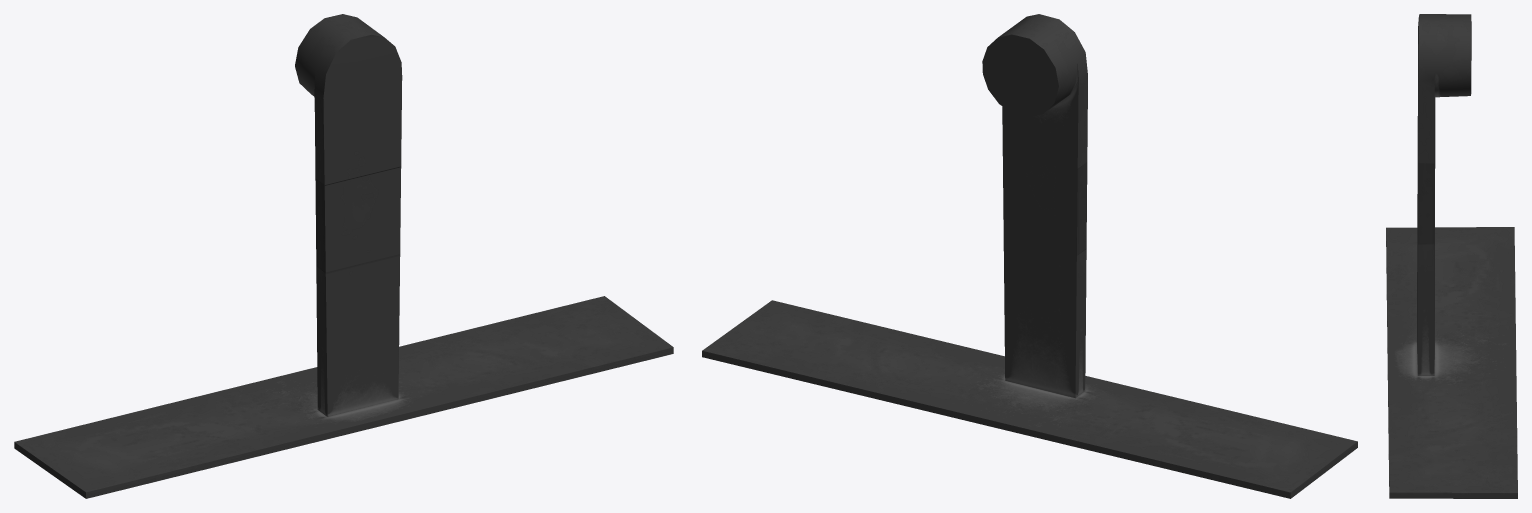
File: SM_Monitor_Handle_01.fbx
3 views of the same model, side by side, from view 1: azimuth 30°, elevation 25°; view 2: azimuth 150°, elevation 25°; view 3: azimuth 270°, elevation 25° (orthographic). The views are drawn at different scales.
Parts seen in each view (by area): view 1: SM_Monitor_Handle_01_LOD0; view 2: SM_Monitor_Handle_01_LOD0; view 3: SM_Monitor_Handle_01_LOD0.
Part boxes in pixels (x1,y1,x2,y2): SM_Monitor_Handle_01_LOD0: (14, 14, 673, 498); SM_Monitor_Handle_01_LOD0: (702, 14, 1357, 498); SM_Monitor_Handle_01_LOD0: (1386, 14, 1517, 498).
Size of the model in its own units: 113 by 23.71 by 68.87.
